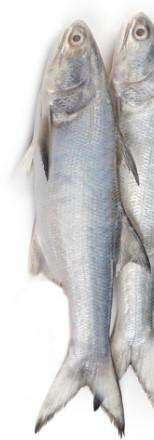Indo-Pacific Tarpon: (15, 18, 151, 438), (112, 10, 154, 401)
